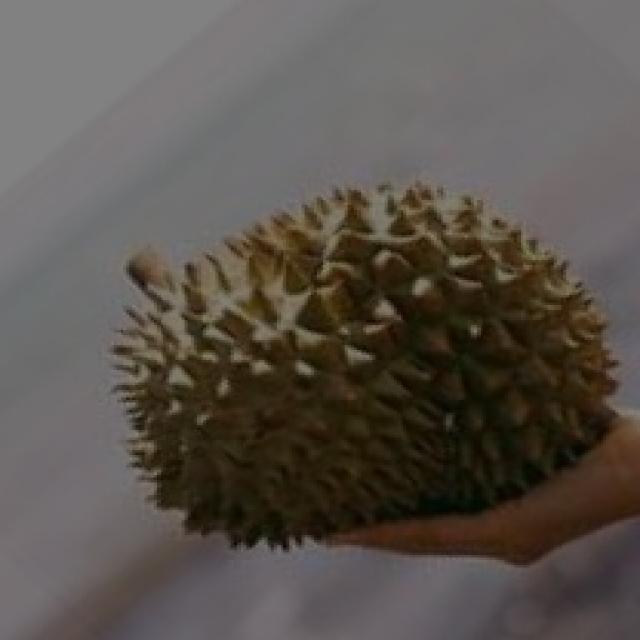fruit: (68, 180, 462, 590), (271, 150, 640, 545)
